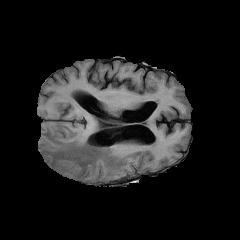glioma: (39, 115, 158, 176)
